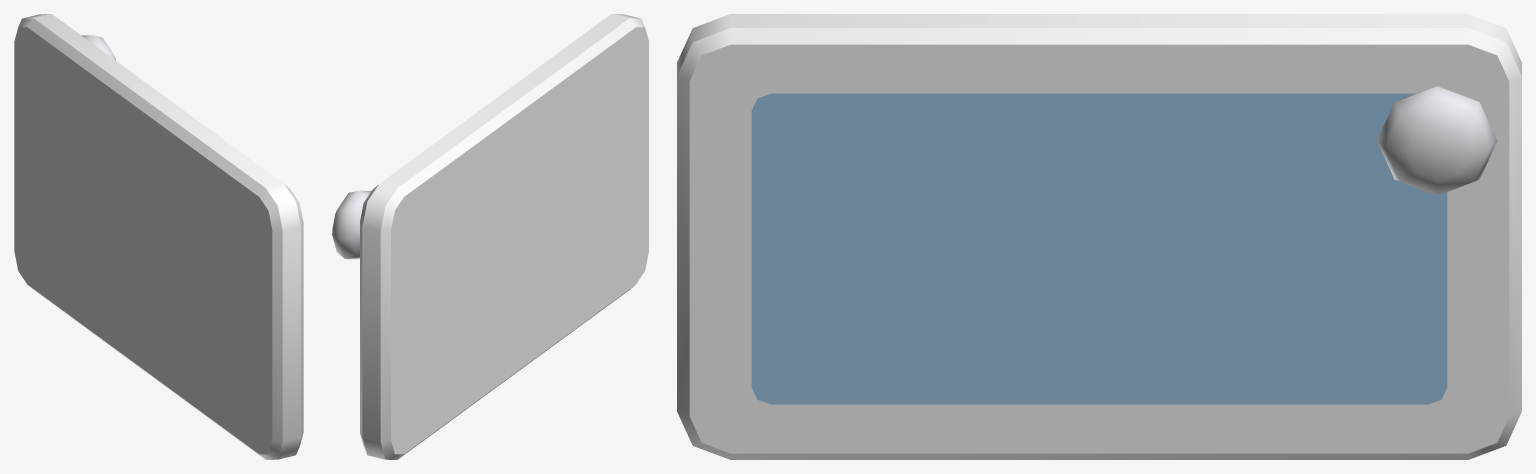
File: Bedside_table_door.fbx
The picture shows the model from 3 angles, left to right: view 1: azimuth 30°, elevation 25°; view 2: azimuth 150°, elevation 25°; view 3: azimuth 270°, elevation 25°; orthographic projection. The views are drawn at different scales.
Parts seen in each view (by area): view 1: Bedside_table_door; view 2: Bedside_table_door; view 3: Bedside_table_door.
Boxes of the visible parts, x1,y1,x2,y2 form: Bedside_table_door: (14, 14, 303, 459); Bedside_table_door: (332, 14, 648, 459); Bedside_table_door: (677, 14, 1521, 459).
Size of the model in its own units: 0.1127 by 0.3957 by 0.7017.
